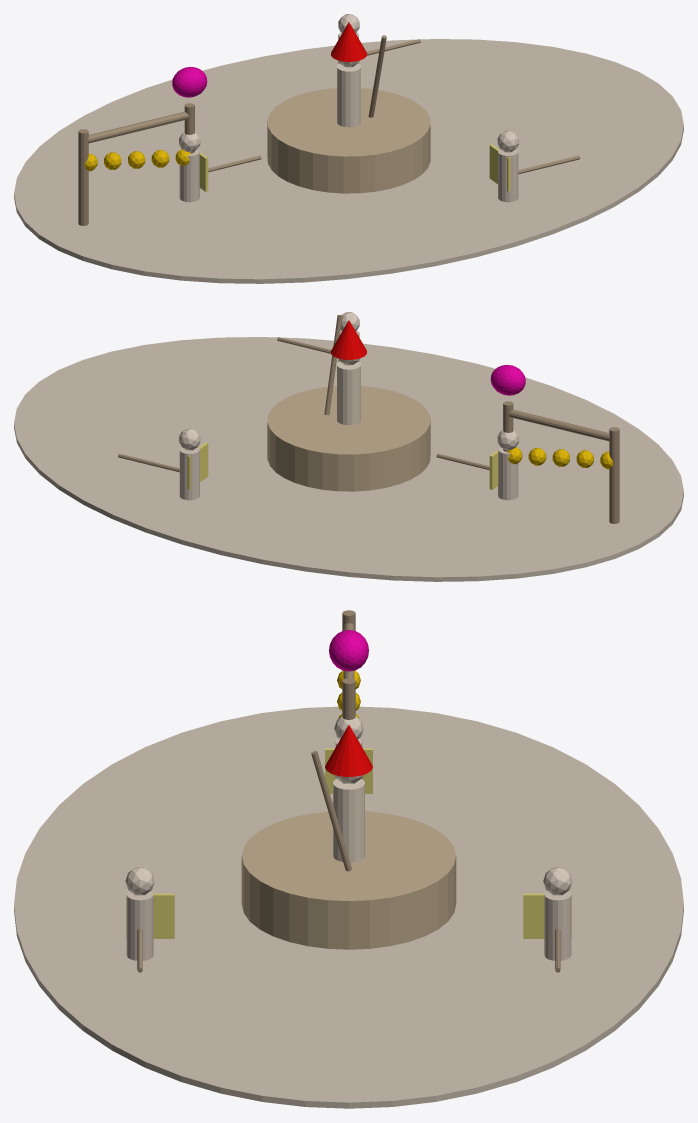
Rendered from nazca_sociedad.glb.
The picture shows the model from 3 angles, top to bottom: view 1: azimuth 30°, elevation 25°; view 2: azimuth 150°, elevation 25°; view 3: azimuth 270°, elevation 25°; orthographic projection. The views are drawn at different scales.
Parts seen in each view (by area): view 1: Plaza, Dais, Warriors, TrophyRack, Leader, Heart; view 2: Plaza, Dais, Warriors, TrophyRack, Leader, Heart; view 3: Plaza, Dais, Warriors, Leader, Heart, TrophyRack.
Part boxes in pixels (x1=…): Plaza: x1=14, y1=39, x2=683, y2=283; Dais: x1=267, y1=88, x2=430, y2=193; Warriors: x1=179, y1=14, x2=579, y2=202; TrophyRack: x1=78, y1=103, x2=194, y2=225; Leader: x1=331, y1=22, x2=386, y2=127; Heart: x1=172, y1=67, x2=207, y2=97; Plaza: x1=14, y1=337, x2=683, y2=581; Dais: x1=267, y1=386, x2=430, y2=491; Warriors: x1=118, y1=312, x2=518, y2=500; TrophyRack: x1=503, y1=401, x2=619, y2=523; Leader: x1=324, y1=315, x2=366, y2=425; Heart: x1=490, y1=365, x2=525, y2=395; Plaza: x1=14, y1=706, x2=683, y2=1108; Dais: x1=241, y1=811, x2=456, y2=949; Warriors: x1=125, y1=716, x2=572, y2=972; Leader: x1=311, y1=725, x2=372, y2=871; Heart: x1=329, y1=630, x2=368, y2=671; TrophyRack: x1=337, y1=610, x2=360, y2=739.
Bounding box in the file's own units: 7 × 1.53 × 5.
